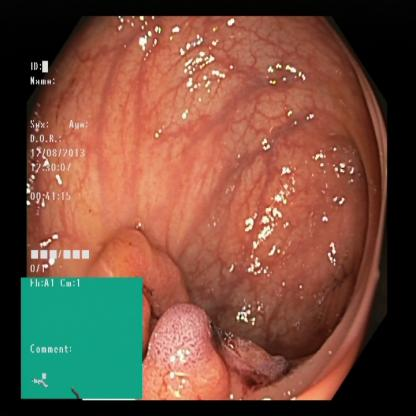Labels: (26, 57, 109, 276), (20, 278, 144, 401)
Polyps: (230, 99, 353, 306), (146, 304, 282, 399), (106, 230, 203, 312)
